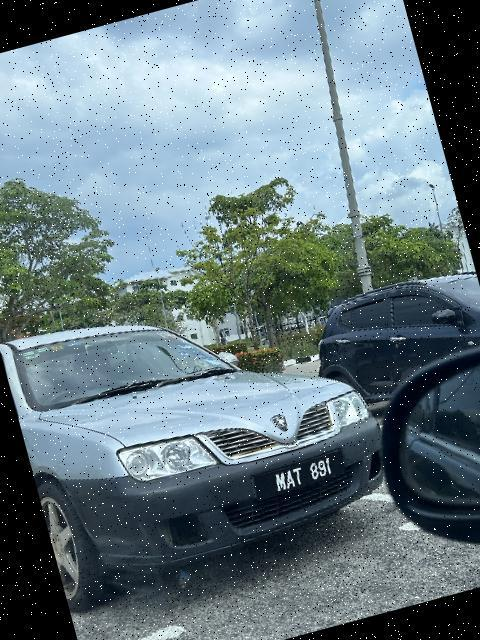License_Plate: (256, 450, 351, 498)
MAT891: (256, 450, 351, 498)
car: (1, 242, 407, 607)
